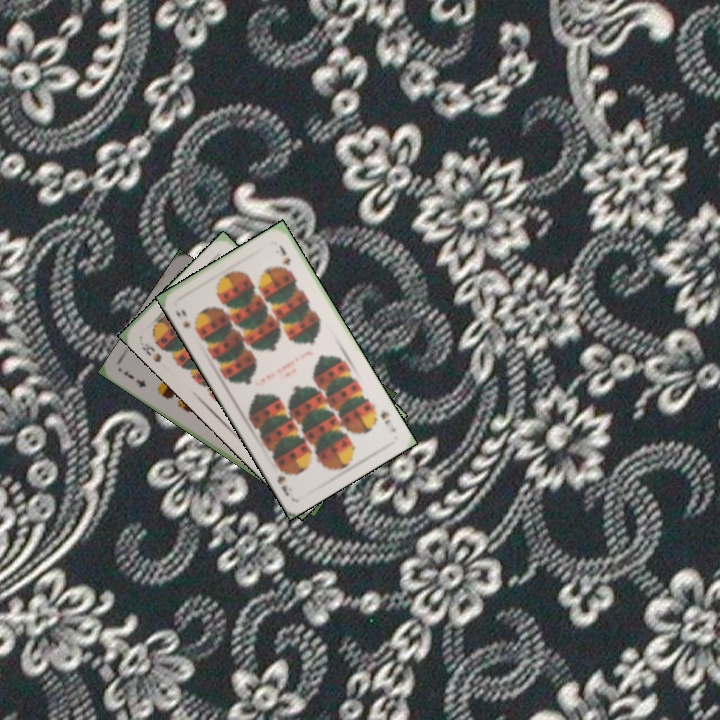E7: (120, 367, 149, 390)
S8: (136, 334, 165, 365)
S9: (377, 405, 399, 435), (171, 305, 193, 331)
